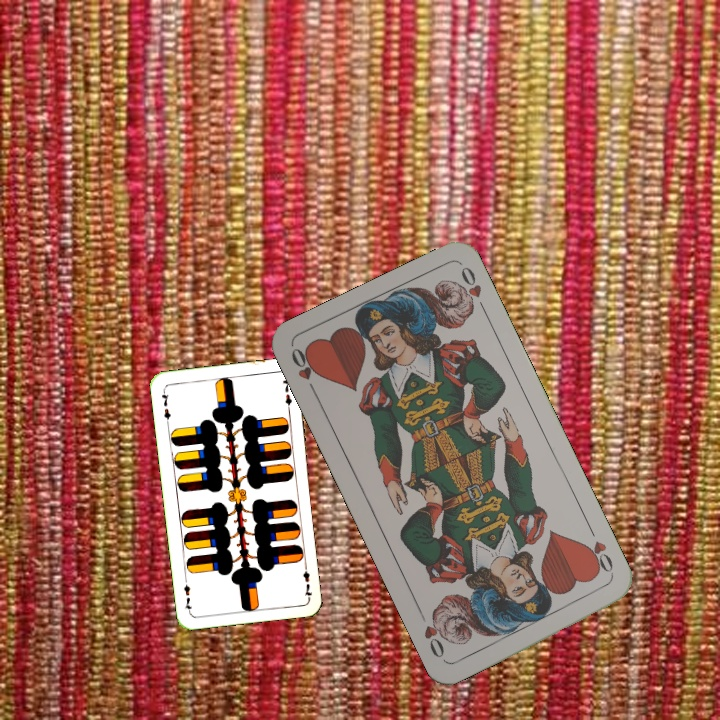E7: (157, 386, 173, 427), (299, 559, 315, 600)
HO: (580, 523, 617, 579), (287, 343, 321, 400)
